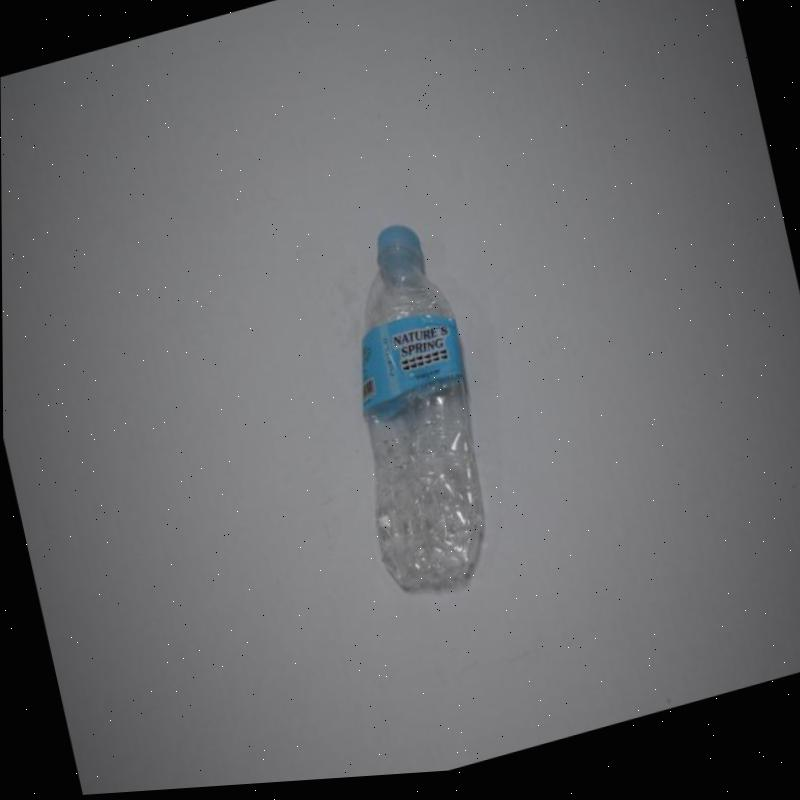botella: (310, 213, 511, 616)
